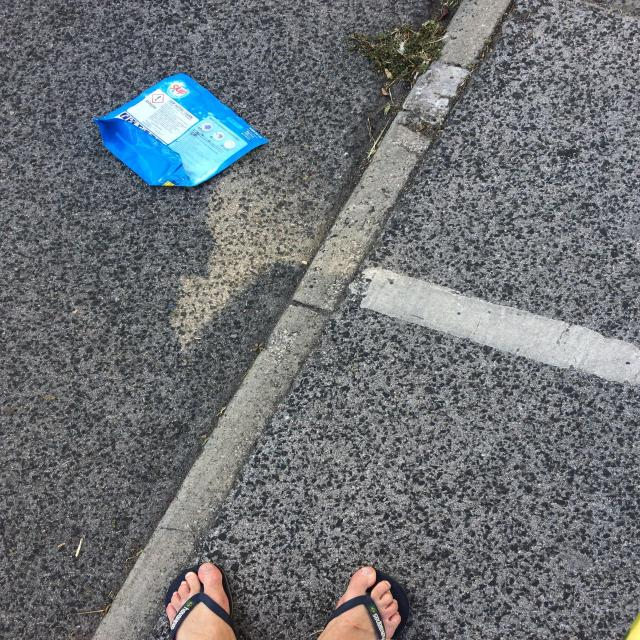litter: (99, 71, 268, 186)
